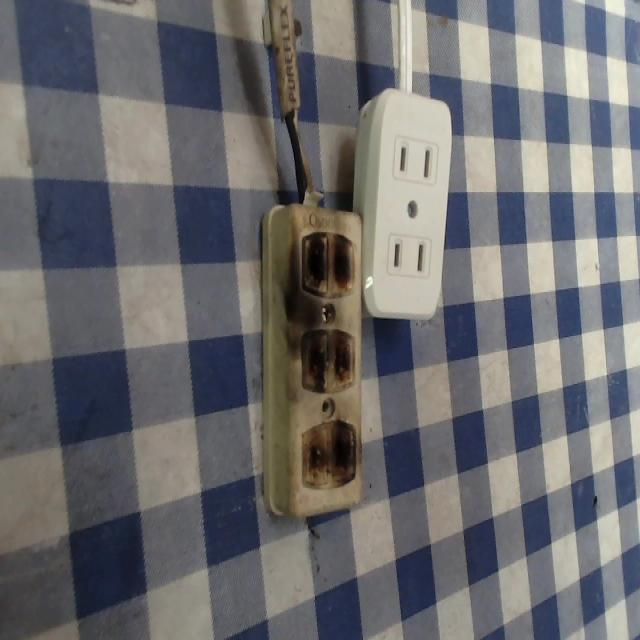-: (296, 320, 355, 403), (299, 227, 357, 309), (302, 412, 357, 491)
